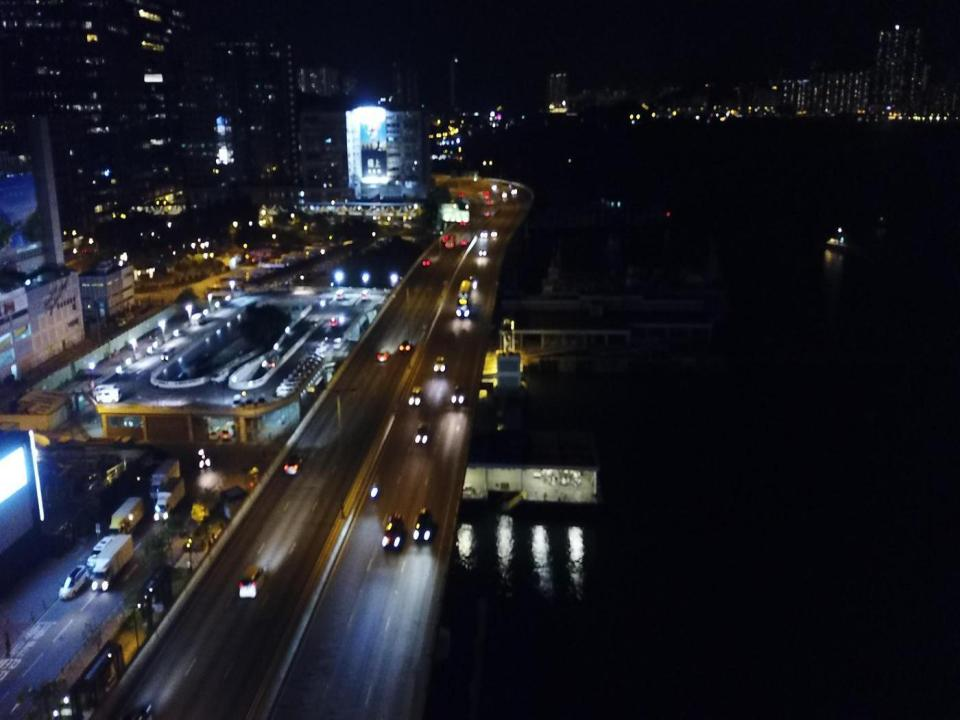bus: (456, 278, 472, 319)
car: (413, 506, 435, 541), (383, 514, 405, 549), (284, 454, 302, 475), (409, 385, 424, 406), (451, 384, 464, 406), (416, 427, 430, 446), (433, 354, 446, 372), (399, 340, 414, 354), (376, 349, 390, 363), (468, 276, 479, 289), (234, 394, 242, 411), (329, 315, 340, 327), (258, 393, 266, 408), (246, 394, 254, 409), (422, 256, 431, 267), (161, 351, 170, 361)
truck: (92, 534, 134, 589), (155, 478, 186, 522), (110, 496, 144, 536), (151, 458, 180, 498)
van: (239, 560, 266, 600), (60, 564, 90, 599), (87, 536, 116, 570), (96, 389, 121, 403), (211, 366, 230, 384), (222, 420, 236, 441), (94, 384, 118, 396), (208, 425, 222, 440), (336, 288, 346, 300), (361, 289, 370, 302)
